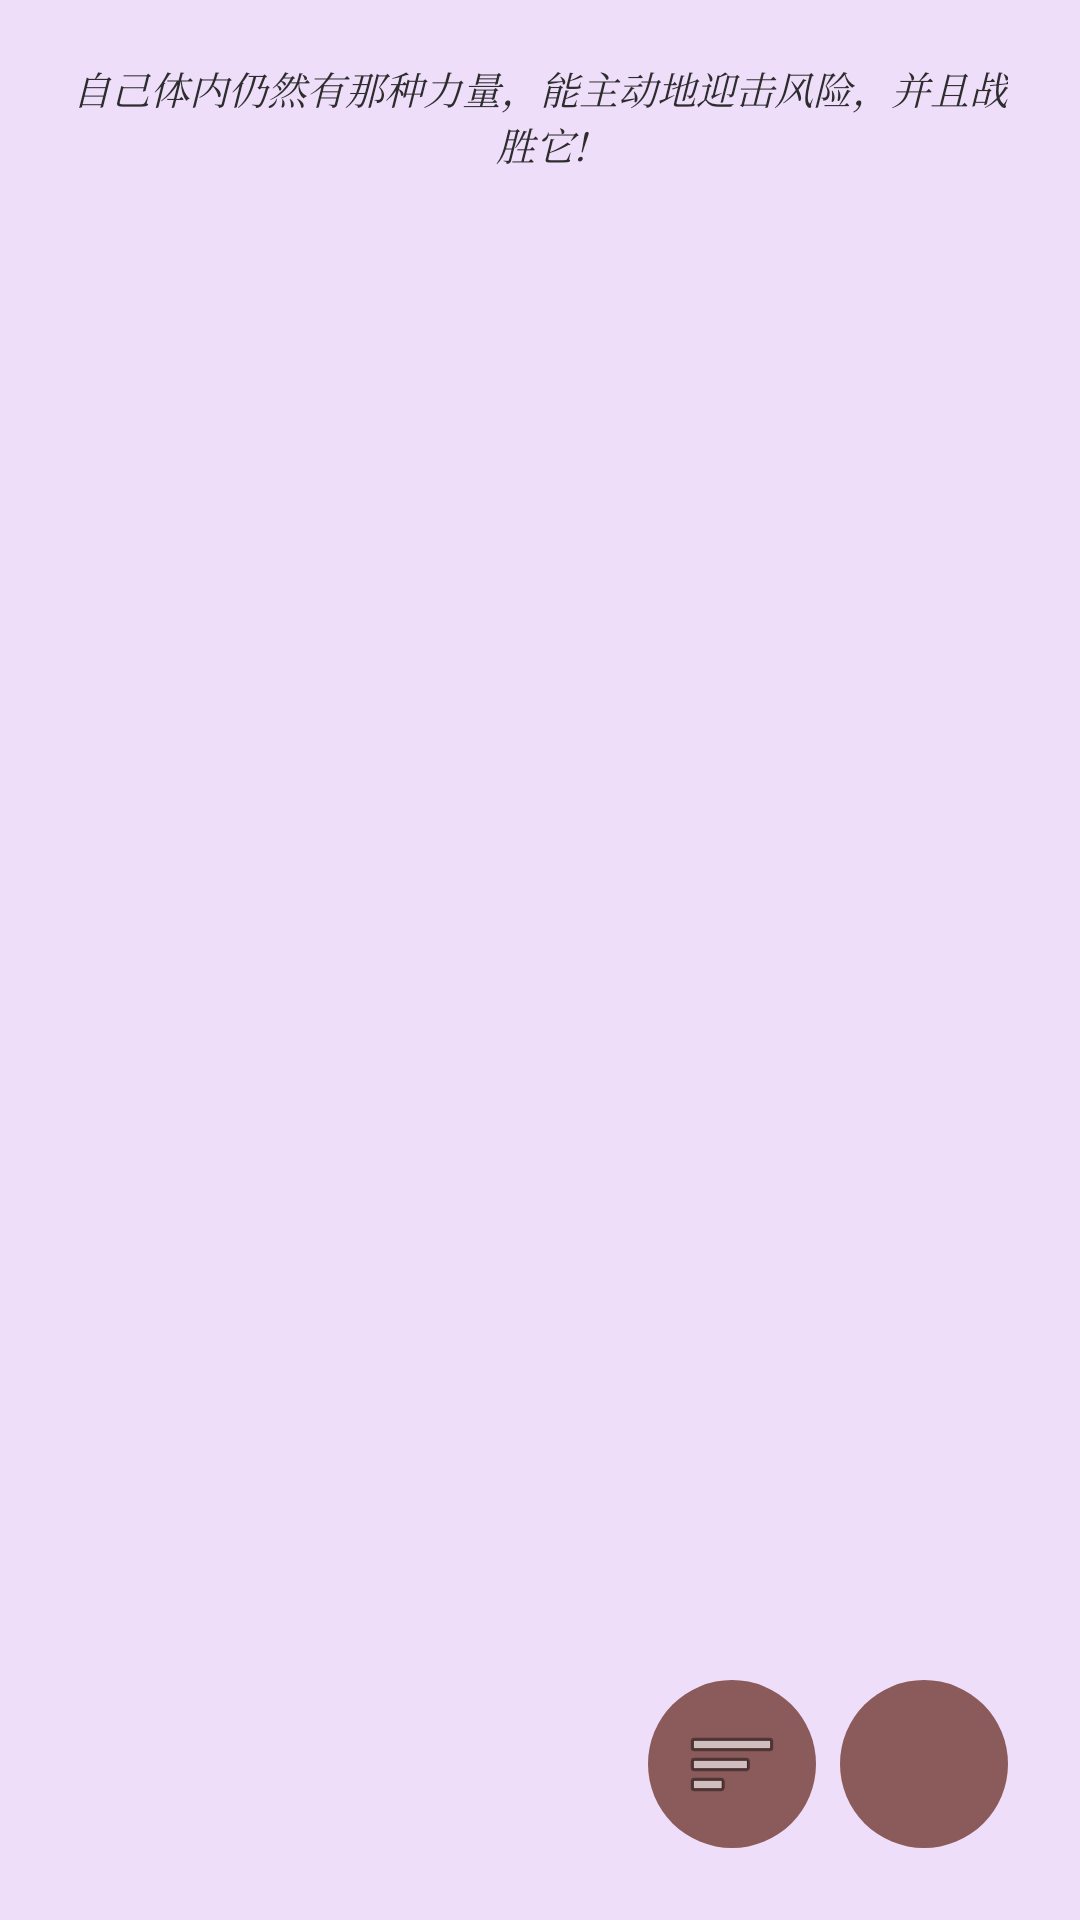

Named icons in this screenshot (1080 x 1920) and their centers, [x,y]:
Reorder tasks: [732,1764]
